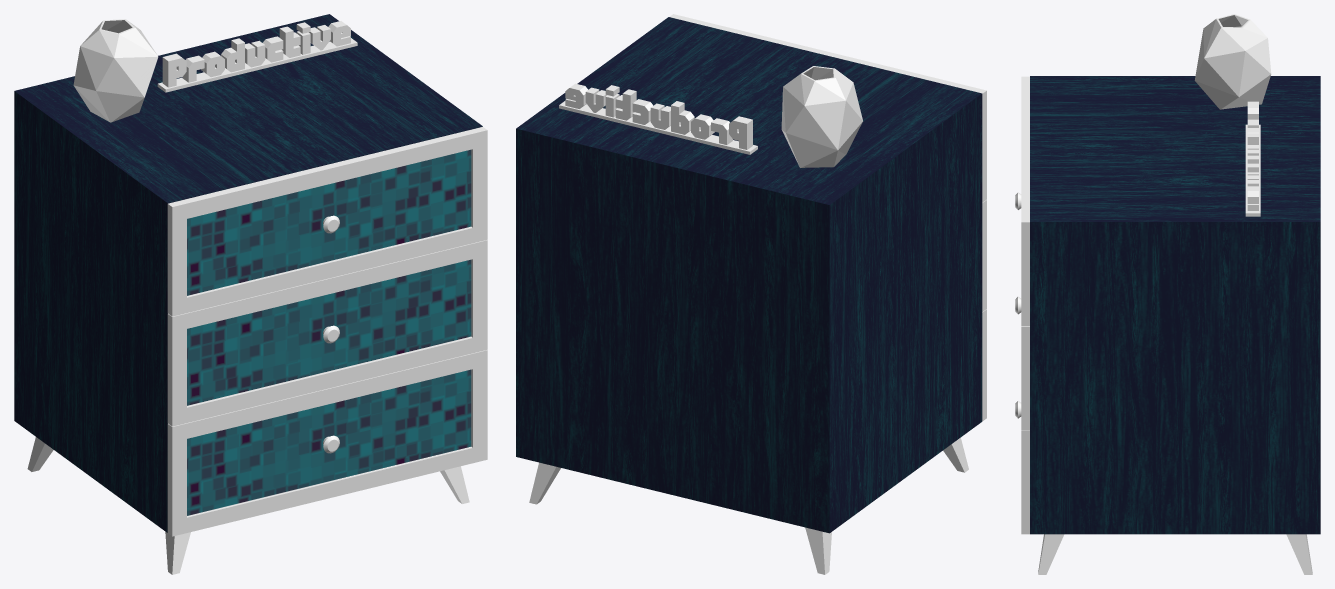
3 views of the same model, side by side, from view 1: azimuth 30°, elevation 25°; view 2: azimuth 150°, elevation 25°; view 3: azimuth 270°, elevation 25° (orthographic). The views are drawn at different scales.
Parts seen in each view (by area): view 1: Body, Drawer1, Drawer3, Drawer2, VASE, TEXT, Legs; view 2: Body, VASE, TEXT, Legs, Drawer1; view 3: Body, VASE, Drawer1, TEXT, Legs, Drawer3, Drawer2.
Part boxes in pixels (left/top/right/bottom): Body: left=14, top=14, right=482, bottom=532; Drawer1: left=167, top=127, right=487, bottom=316; Drawer3: left=167, top=350, right=487, bottom=536; Drawer2: left=167, top=240, right=487, bottom=426; VASE: left=73, top=19, right=158, bottom=122; TEXT: left=157, top=21, right=357, bottom=92; Legs: left=27, top=437, right=469, bottom=574; Body: left=516, top=17, right=982, bottom=533; VASE: left=781, top=66, right=862, bottom=167; TEXT: left=559, top=83, right=757, bottom=154; Legs: left=529, top=437, right=968, bottom=574; Drawer1: left=669, top=14, right=986, bottom=202; Body: left=1030, top=76, right=1320, bottom=534; VASE: left=1194, top=14, right=1271, bottom=109; Drawer1: left=1021, top=76, right=1029, bottom=325; TEXT: left=1245, top=101, right=1260, bottom=216; Legs: left=1038, top=534, right=1312, bottom=574; Drawer3: left=1021, top=430, right=1029, bottom=534; Drawer2: left=1021, top=326, right=1029, bottom=430.
Size of the model in its own units: 0.56 by 0.784 by 0.496.
2 materials, 1 textured.
